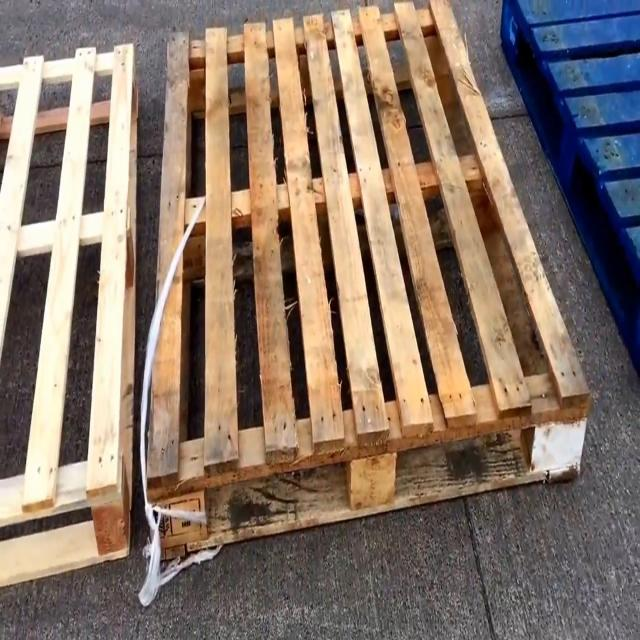Palette: (144, 0, 593, 542), (0, 34, 139, 588), (499, 0, 640, 370)
